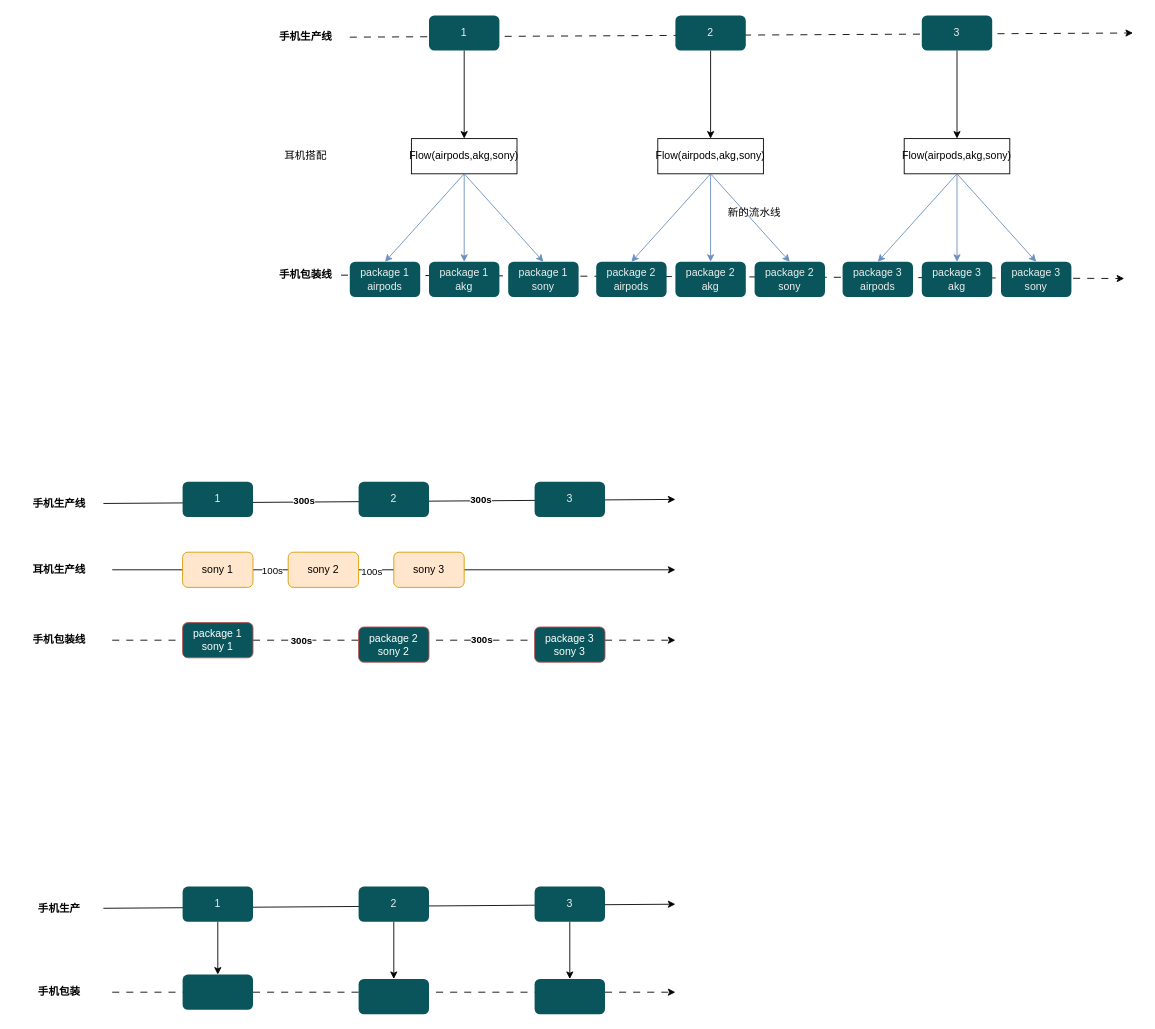
Some shapes in this 1155 by 1029 pixel diagram are drawn without their labels. The shapes that lost their labels are listed below. From the top down, each one's centre as x and y in pixels, then its label:
At pixel 217 991: "package 1".
At pixel 393 996: "package 2".
At pixel 569 996: "package 3".
